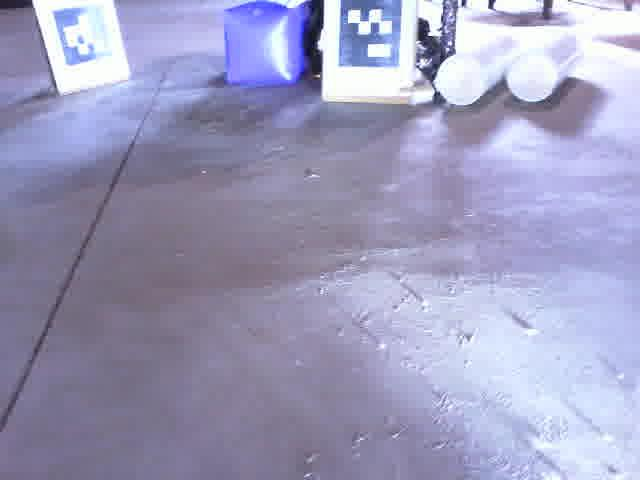coral: (434, 34, 526, 106), (509, 30, 584, 103)
